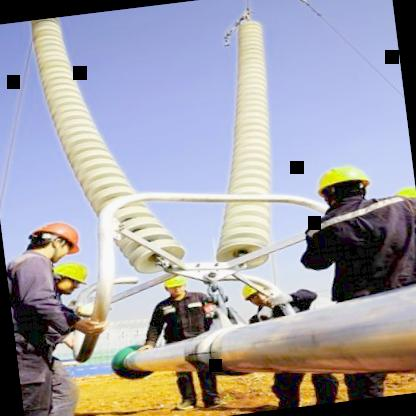helmet: (307, 156, 377, 215), (23, 214, 84, 263), (45, 258, 93, 300), (235, 280, 284, 312), (160, 268, 191, 300)
